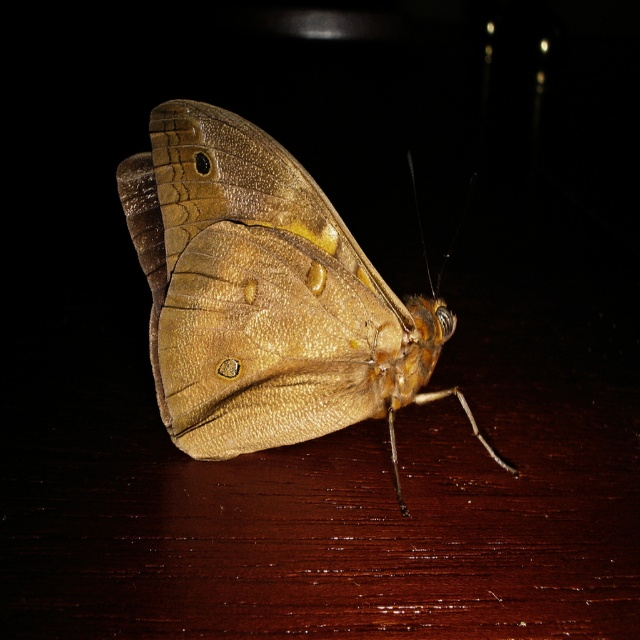Butterfly: (134, 98, 476, 512)
